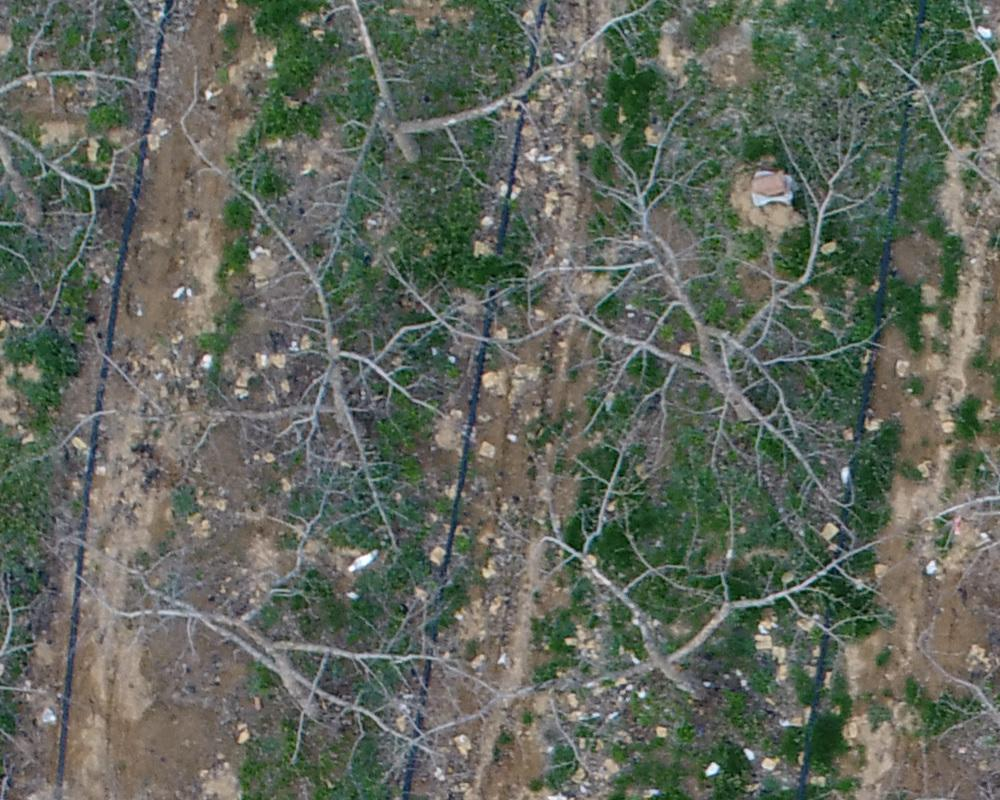apple: (44, 51, 554, 545), (385, 102, 897, 516), (470, 451, 886, 772), (52, 492, 496, 790), (268, 10, 663, 321)
